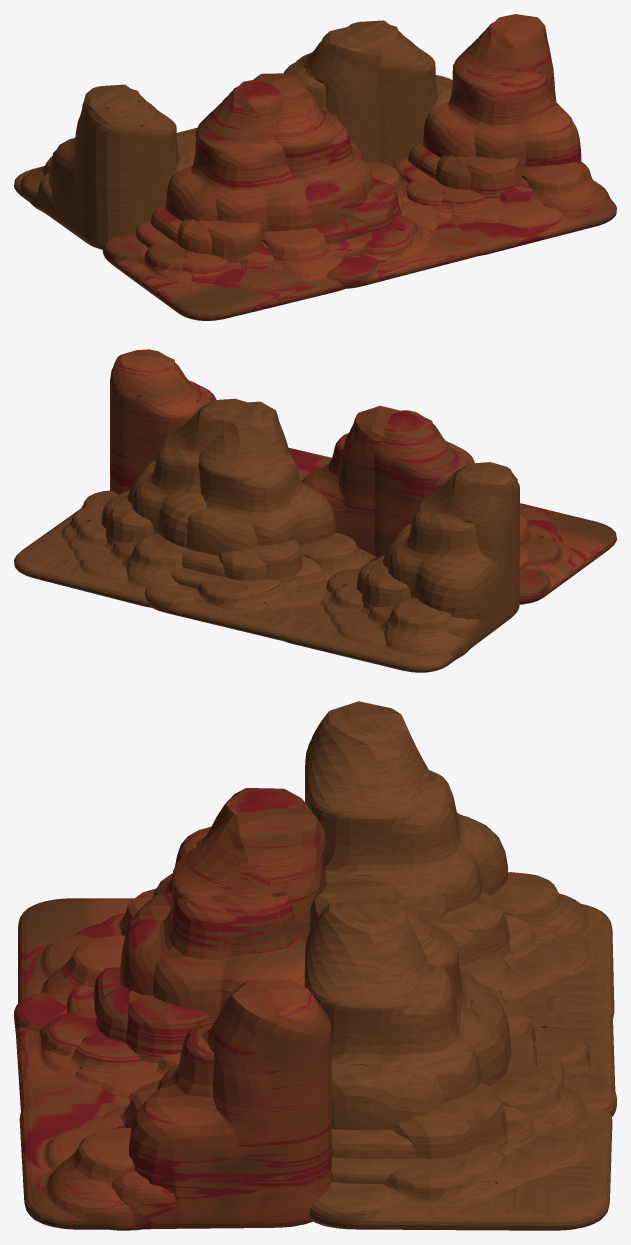
The model's file is RockyBg(Veiny).fbx.
3 views of the same model, one above another, from view 1: azimuth 30°, elevation 25°; view 2: azimuth 150°, elevation 25°; view 3: azimuth 270°, elevation 25° (orthographic). The views are drawn at different scales.
Visible parts, largest first — view 1: Cube.005; view 2: Cube.005; view 3: Cube.005.
Part boxes in pixels (box(x1,y1,x2,y2)): Cube.005: box(14, 14, 616, 320); Cube.005: box(14, 349, 616, 672); Cube.005: box(14, 701, 616, 1230).
Size of the model in its own units: 7792 by 2528 by 6112.
